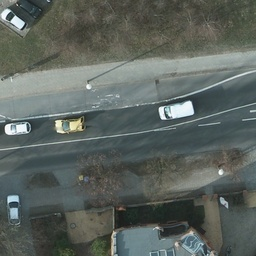car: (160, 101, 195, 120), (5, 194, 21, 227), (54, 116, 84, 132), (1, 10, 26, 29), (15, 1, 41, 18), (4, 121, 32, 132)
